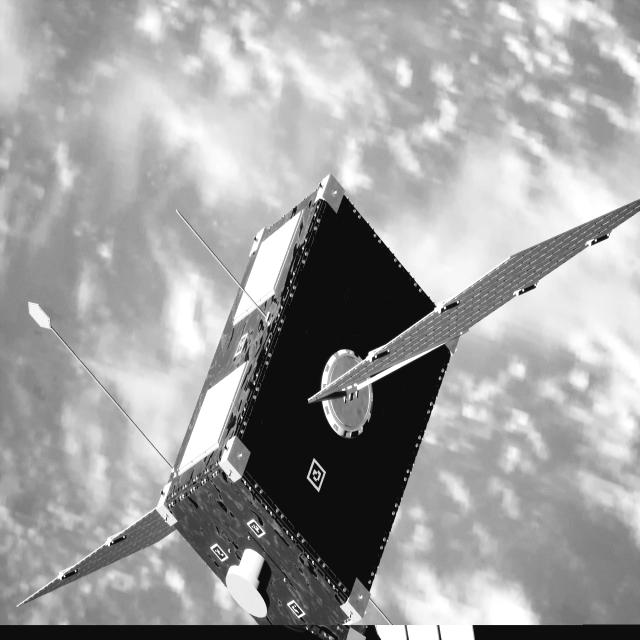satellite: (30, 177, 640, 631)
